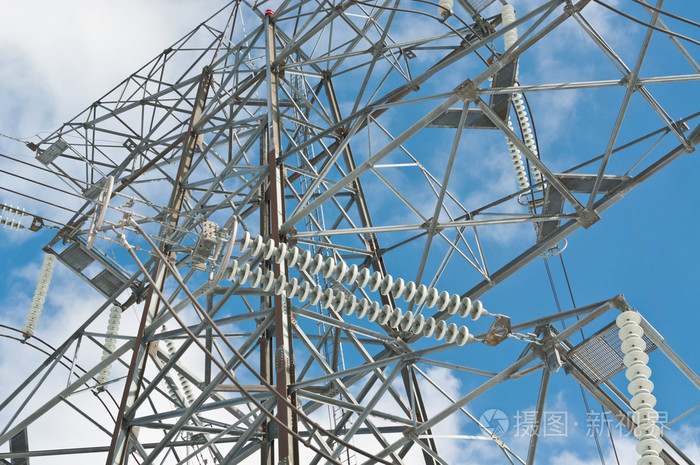insulator: (229, 232, 480, 345), (615, 309, 664, 465), (513, 93, 546, 186), (158, 336, 193, 410), (94, 306, 124, 389), (25, 254, 55, 334), (502, 118, 529, 190), (501, 3, 520, 50), (1, 204, 27, 228)
